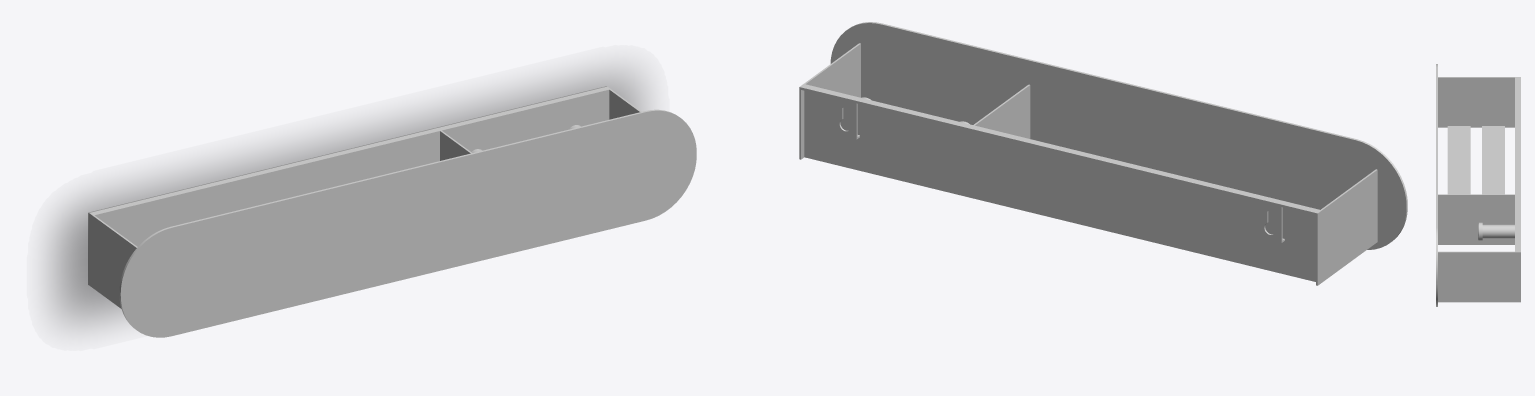
Rendered from round-patron.3f2913b8fe.ar.glb.
The picture shows the model from 3 angles, left to right: view 1: azimuth 30°, elevation 25°; view 2: azimuth 150°, elevation 25°; view 3: azimuth 270°, elevation 25°; orthographic projection. The views are drawn at different scales.
Visible parts, largest first — view 1: NAUO1, object 2; view 2: NAUO1; view 3: NAUO1.
Part boxes in pixels (x1,y1,x2,y2): NAUO1: (88,86,696,337); object 2: (49,70,646,325); NAUO1: (799,22,1407,285); NAUO1: (1436,64,1520,306).
Bounding box in the file's own units: 0.58 × 0.17 × 0.092.
Materials: 2 (1 with a texture image).
